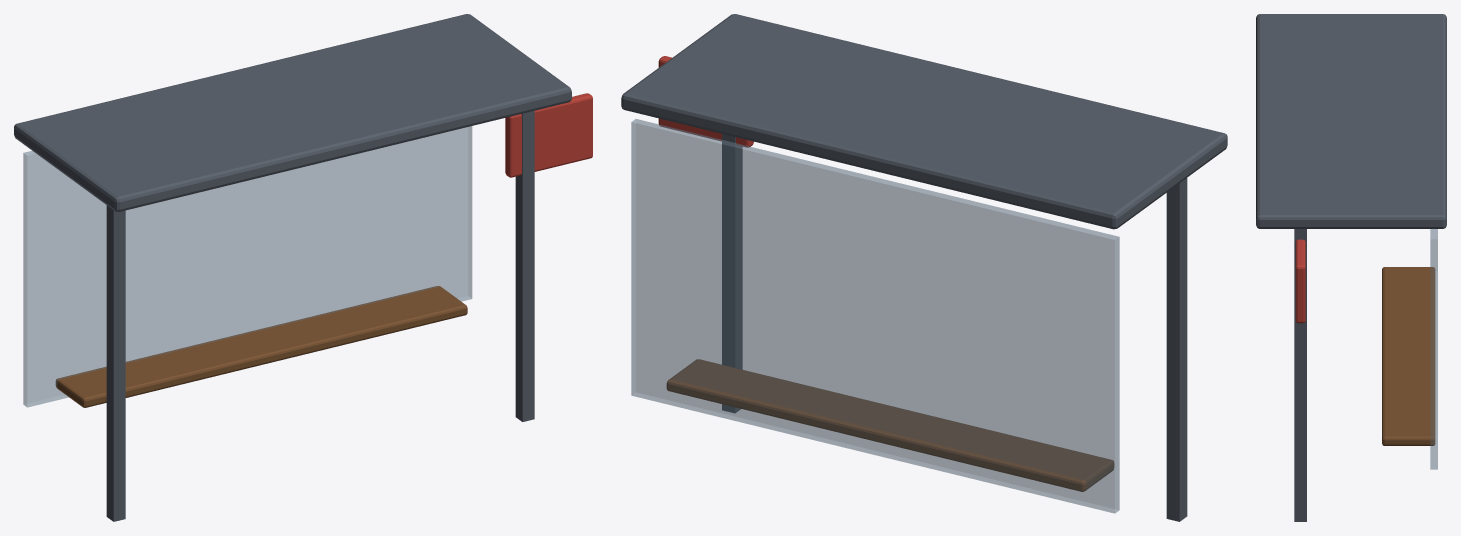
The model's file is prop_busstop.glb.
The picture shows the model from 3 angles, left to right: view 1: azimuth 30°, elevation 25°; view 2: azimuth 150°, elevation 25°; view 3: azimuth 270°, elevation 25°; orthographic projection. The views are drawn at different scales.
Parts seen in each view (by area): view 1: BackGlass, Roof, Seat, Post_0, Post_1, Sign; view 2: BackGlass, Roof, Seat, Post_0, Post_1, Sign; view 3: Roof, Seat, Post_1, BackGlass, Sign.
Boxes of the visible parts, x1=… form: BackGlass: x1=23, y1=126, x2=472, y2=407; Roof: x1=14, y1=14, x2=571, y2=211; Seat: x1=55, y1=286, x2=467, y2=407; Post_0: x1=106, y1=205, x2=125, y2=521; Post_1: x1=515, y1=110, x2=534, y2=421; Sign: x1=505, y1=93, x2=592, y2=177; BackGlass: x1=631, y1=119, x2=1119, y2=513; Roof: x1=621, y1=14, x2=1227, y2=229; Seat: x1=666, y1=359, x2=1113, y2=491; Post_0: x1=1166, y1=178, x2=1187, y2=521; Post_1: x1=722, y1=134, x2=742, y2=412; Sign: x1=658, y1=56, x2=753, y2=147; Roof: x1=1256, y1=14, x2=1446, y2=228; Seat: x1=1382, y1=267, x2=1435, y2=445; Post_1: x1=1294, y1=229, x2=1306, y2=521; BackGlass: x1=1430, y1=229, x2=1437, y2=469; Sign: x1=1295, y1=239, x2=1305, y2=323.
Size of the model in its own units: 4.15 by 2.72 by 1.5.
